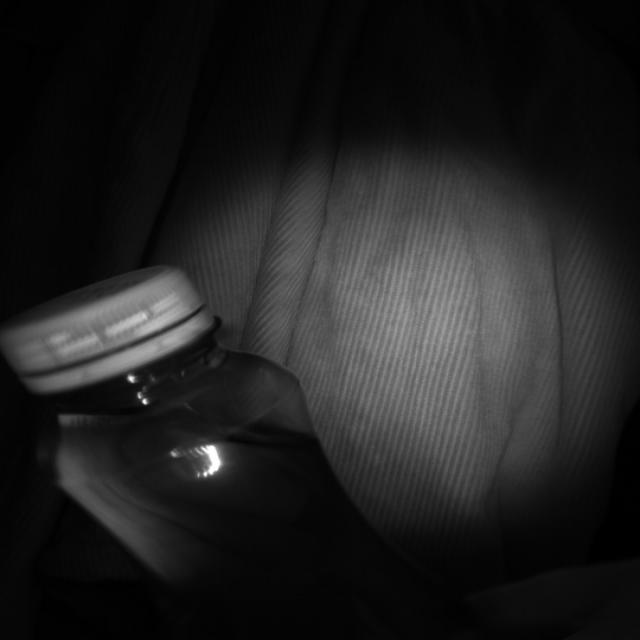Not Good: (3, 266, 219, 392)
